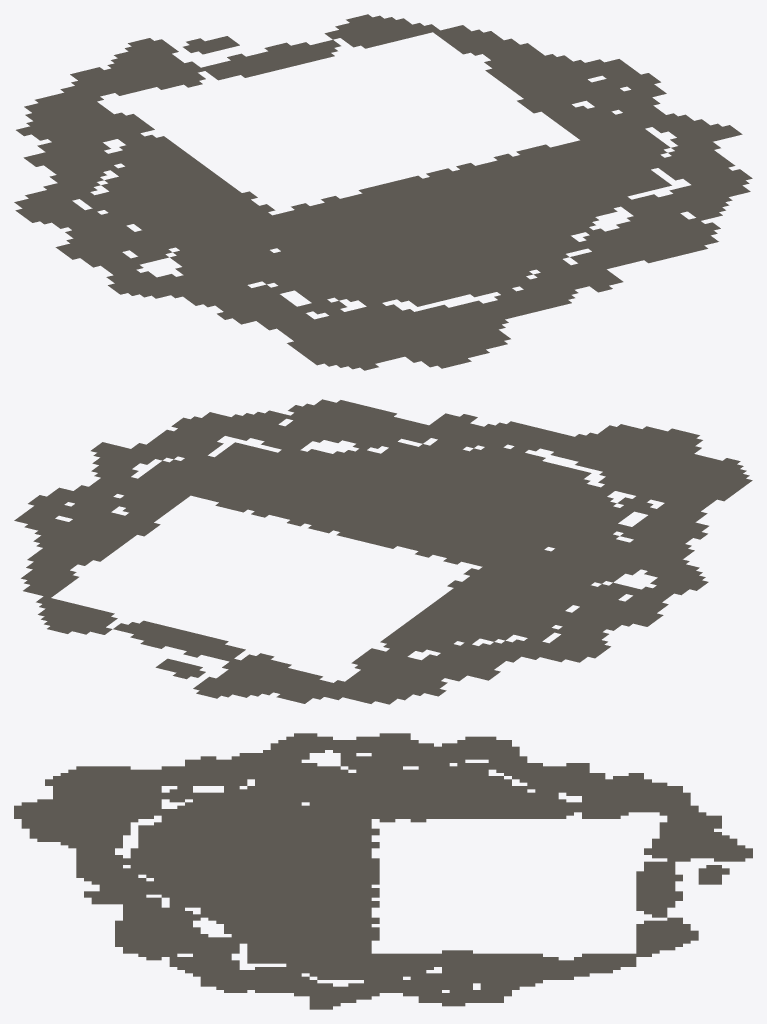
Rendered from Isl-orc3-NoBuildArea.fbx.
3 renders of one model, top to bottom at view 1: azimuth 30°, elevation 25°; view 2: azimuth 150°, elevation 25°; view 3: azimuth 270°, elevation 25°, orthographic. The views are drawn at different scales.
Visible parts, largest first — view 1: Isl-orc3-NoBuildArea; view 2: Isl-orc3-NoBuildArea; view 3: Isl-orc3-NoBuildArea.
Boxes of the visible parts, x1=… form: Isl-orc3-NoBuildArea: x1=14, y1=14, x2=752, y2=370; Isl-orc3-NoBuildArea: x1=14, y1=399, x2=752, y2=704; Isl-orc3-NoBuildArea: x1=14, y1=733, x2=752, y2=1009.
Bounding box in the file's own units: 84 × 0 × 95.
